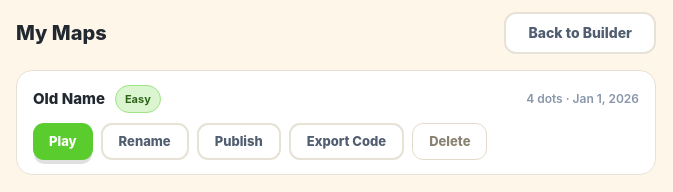
Test: PathfinderMyMaps › Rename prompts with the current name, saves, and shows the new name
Click the button with aria-label "Rename Old Name".
click(145, 142)  # box [101,123,189,160]
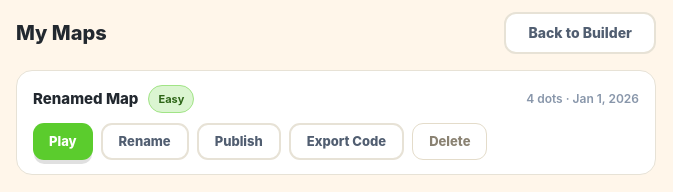
Expected: the text "Renamed Map" is shown, [33,89,138,109]
